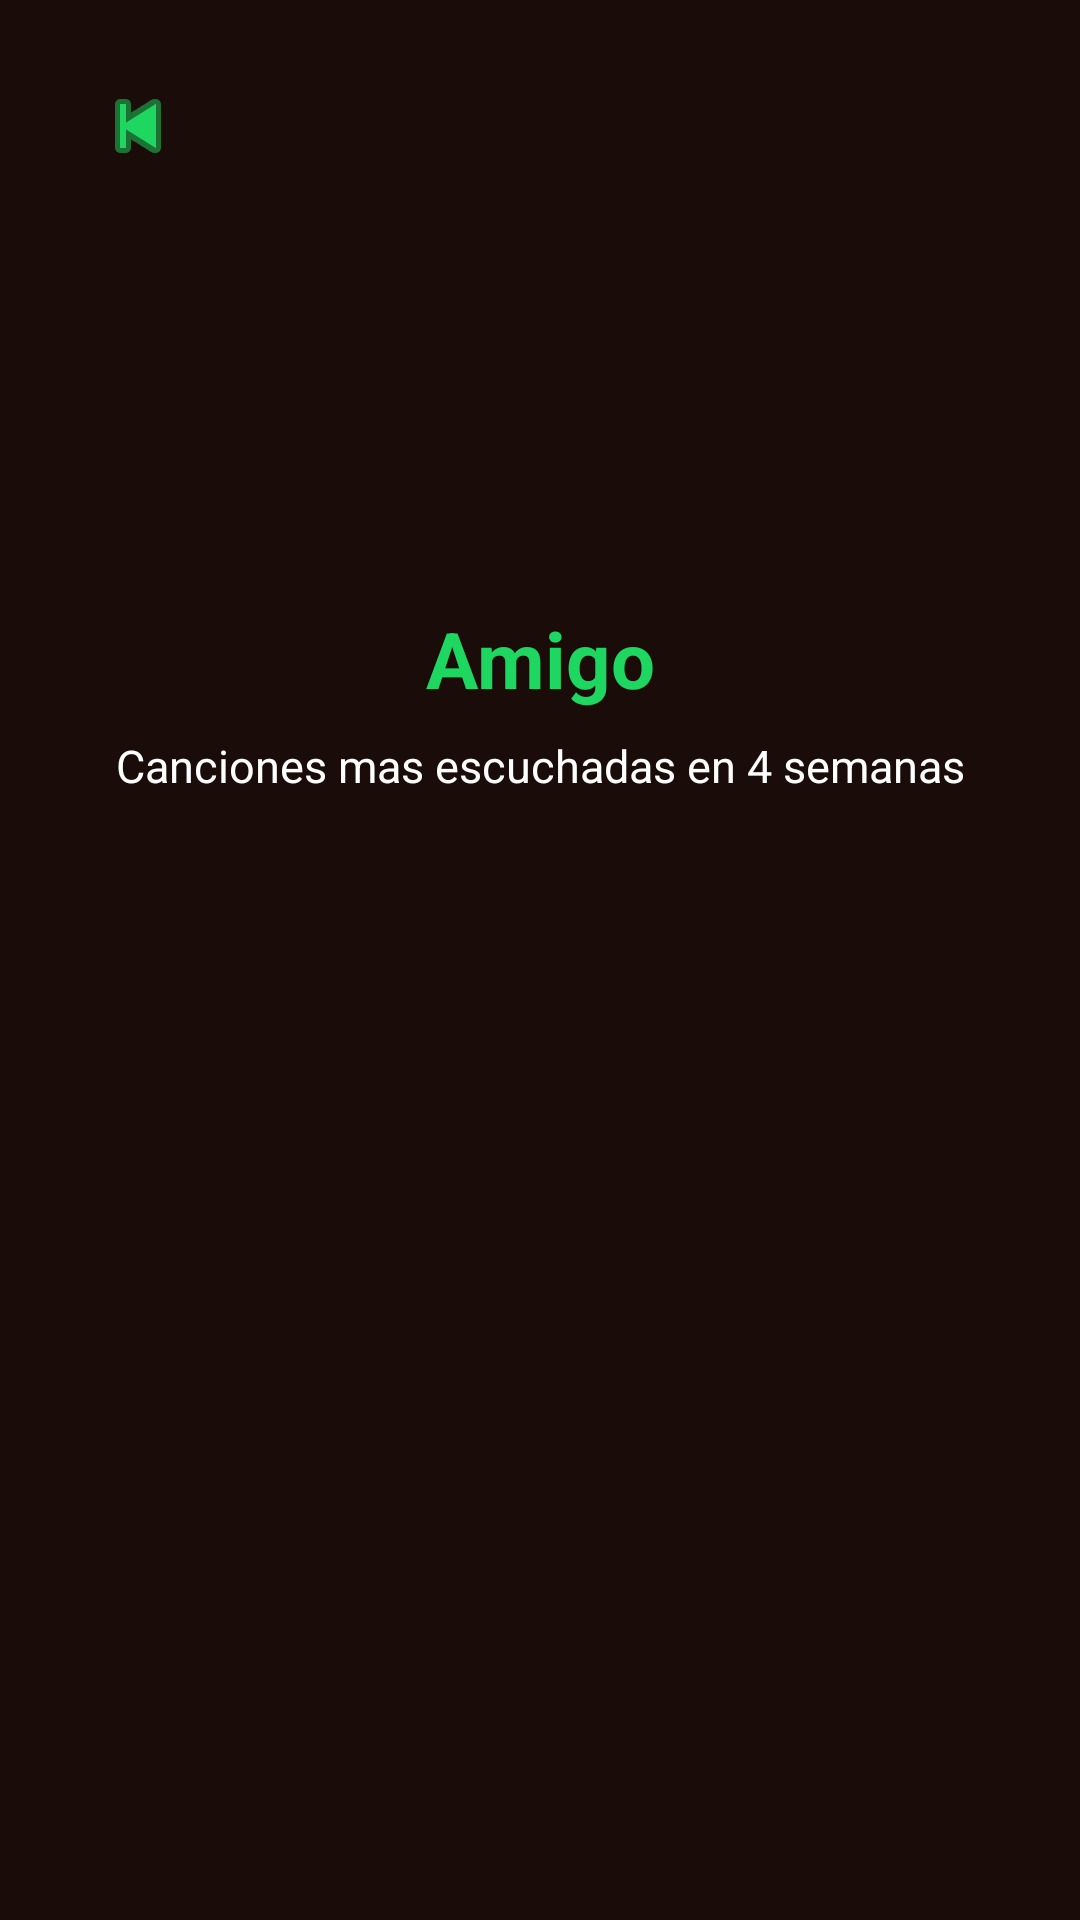

Where icons sit on this 1080x1920 app screen, as BBox(x1, y1, x2, y2):
Volver: BBox(115, 99, 161, 153)
